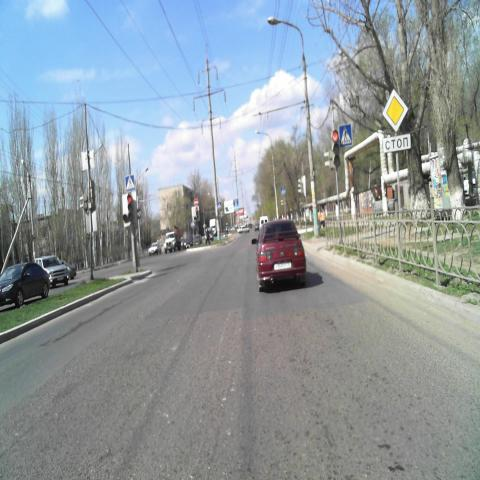6_16: (384, 135, 411, 153)
